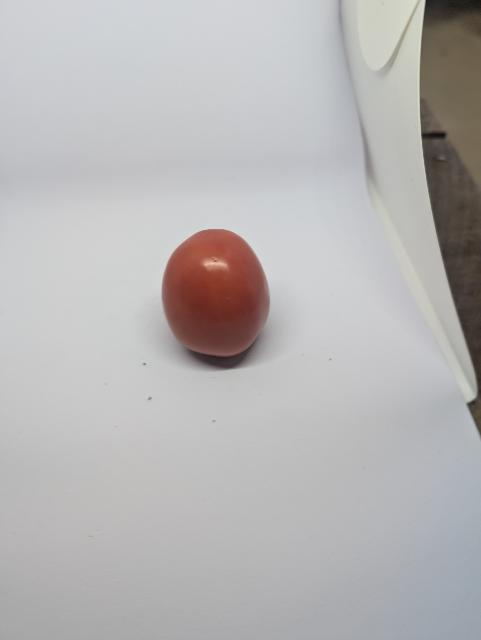red: (160, 228, 272, 365)
